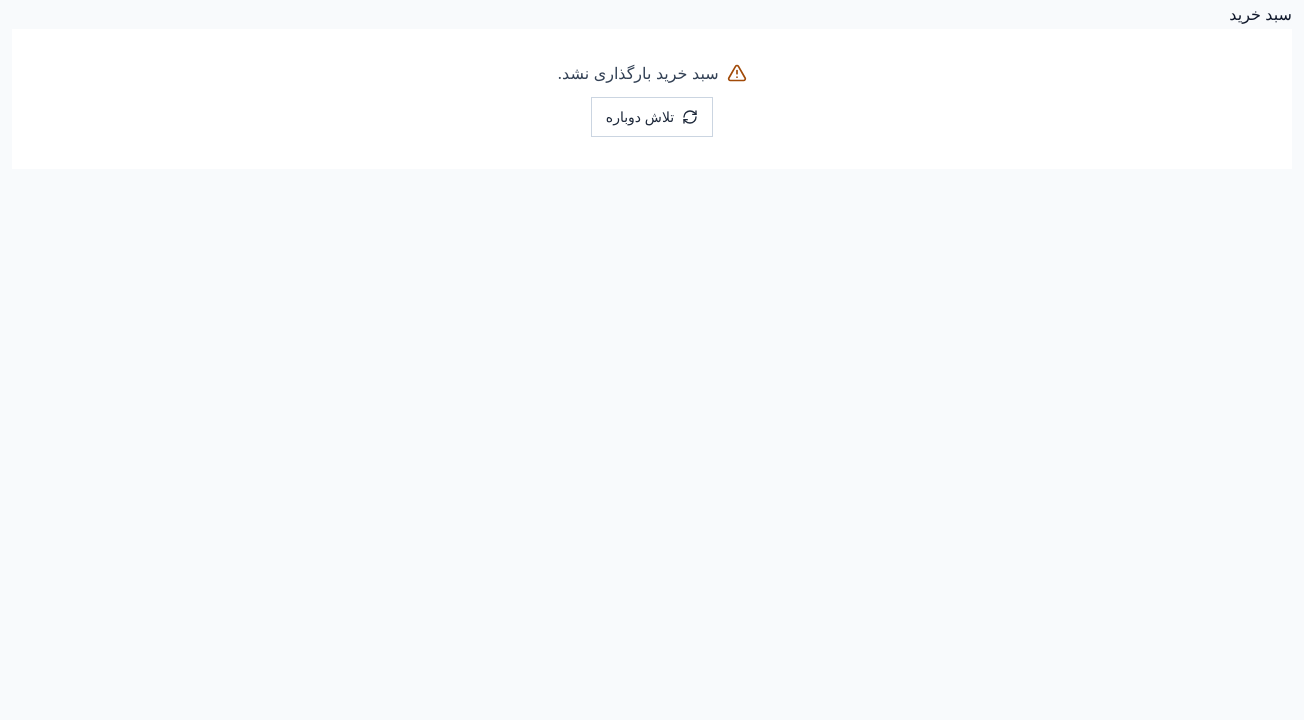
Scenario: CartPage › a cart that could not be read: what happened and «تلاش دوباره»
expect the text "سبد خرید بارگذاری نشد." is shown: met, box [557,61,747,85]
Click the button "تلاش دوباره": coordinates (652, 117) [591,97,713,137]
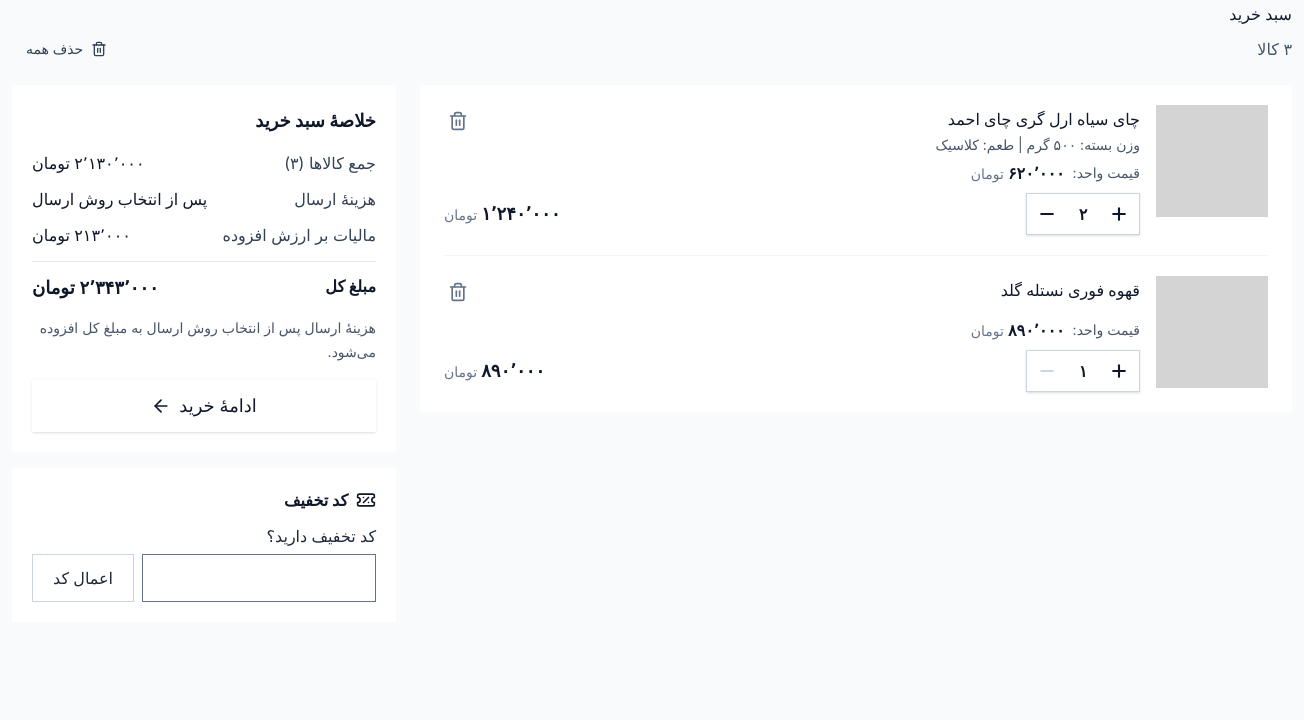
expect the number of list items is 2: met, box [444,85,1268,256]; [444,256,1268,412]
